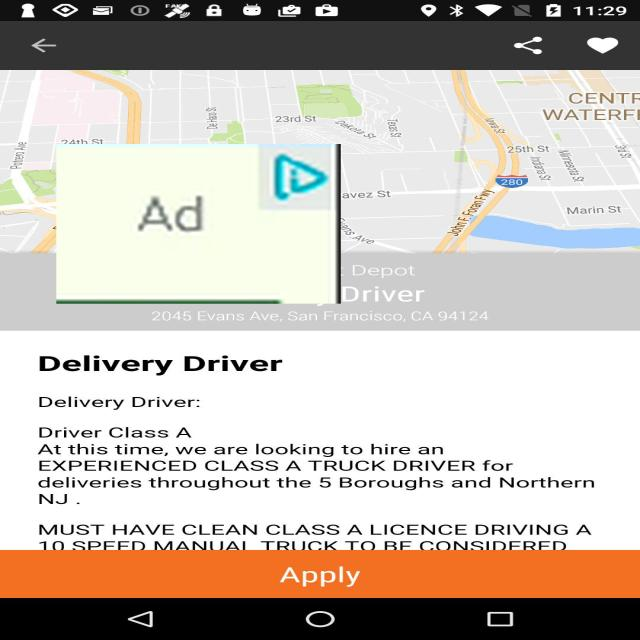sneaking: (56, 144, 341, 304)
